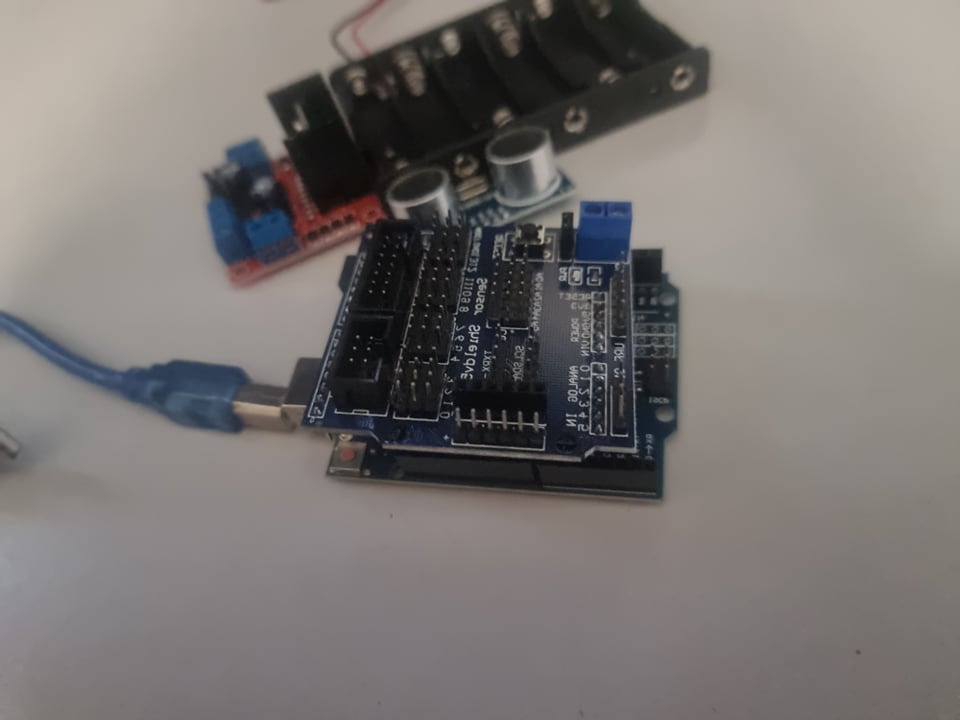5V EXPANSION: (293, 199, 639, 445)
BATTERY BOX: (356, 4, 720, 178)
MOTOR: (194, 64, 351, 286)
SENSOR: (384, 129, 571, 239)
